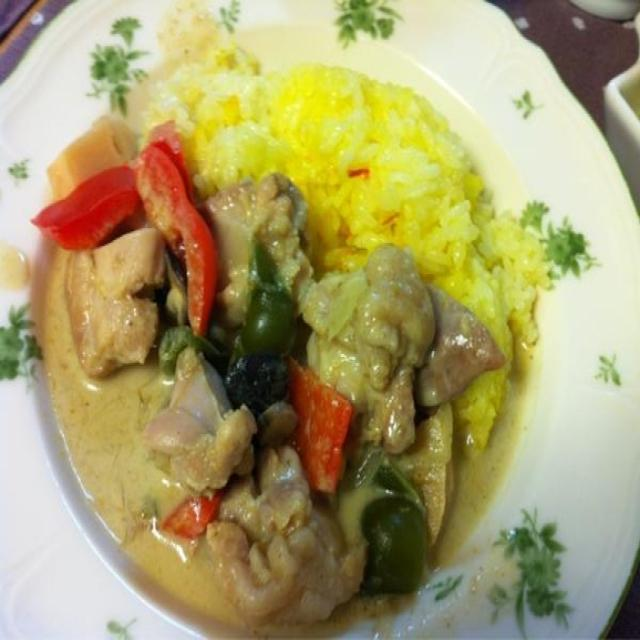面条主食: (14, 31, 611, 589)
